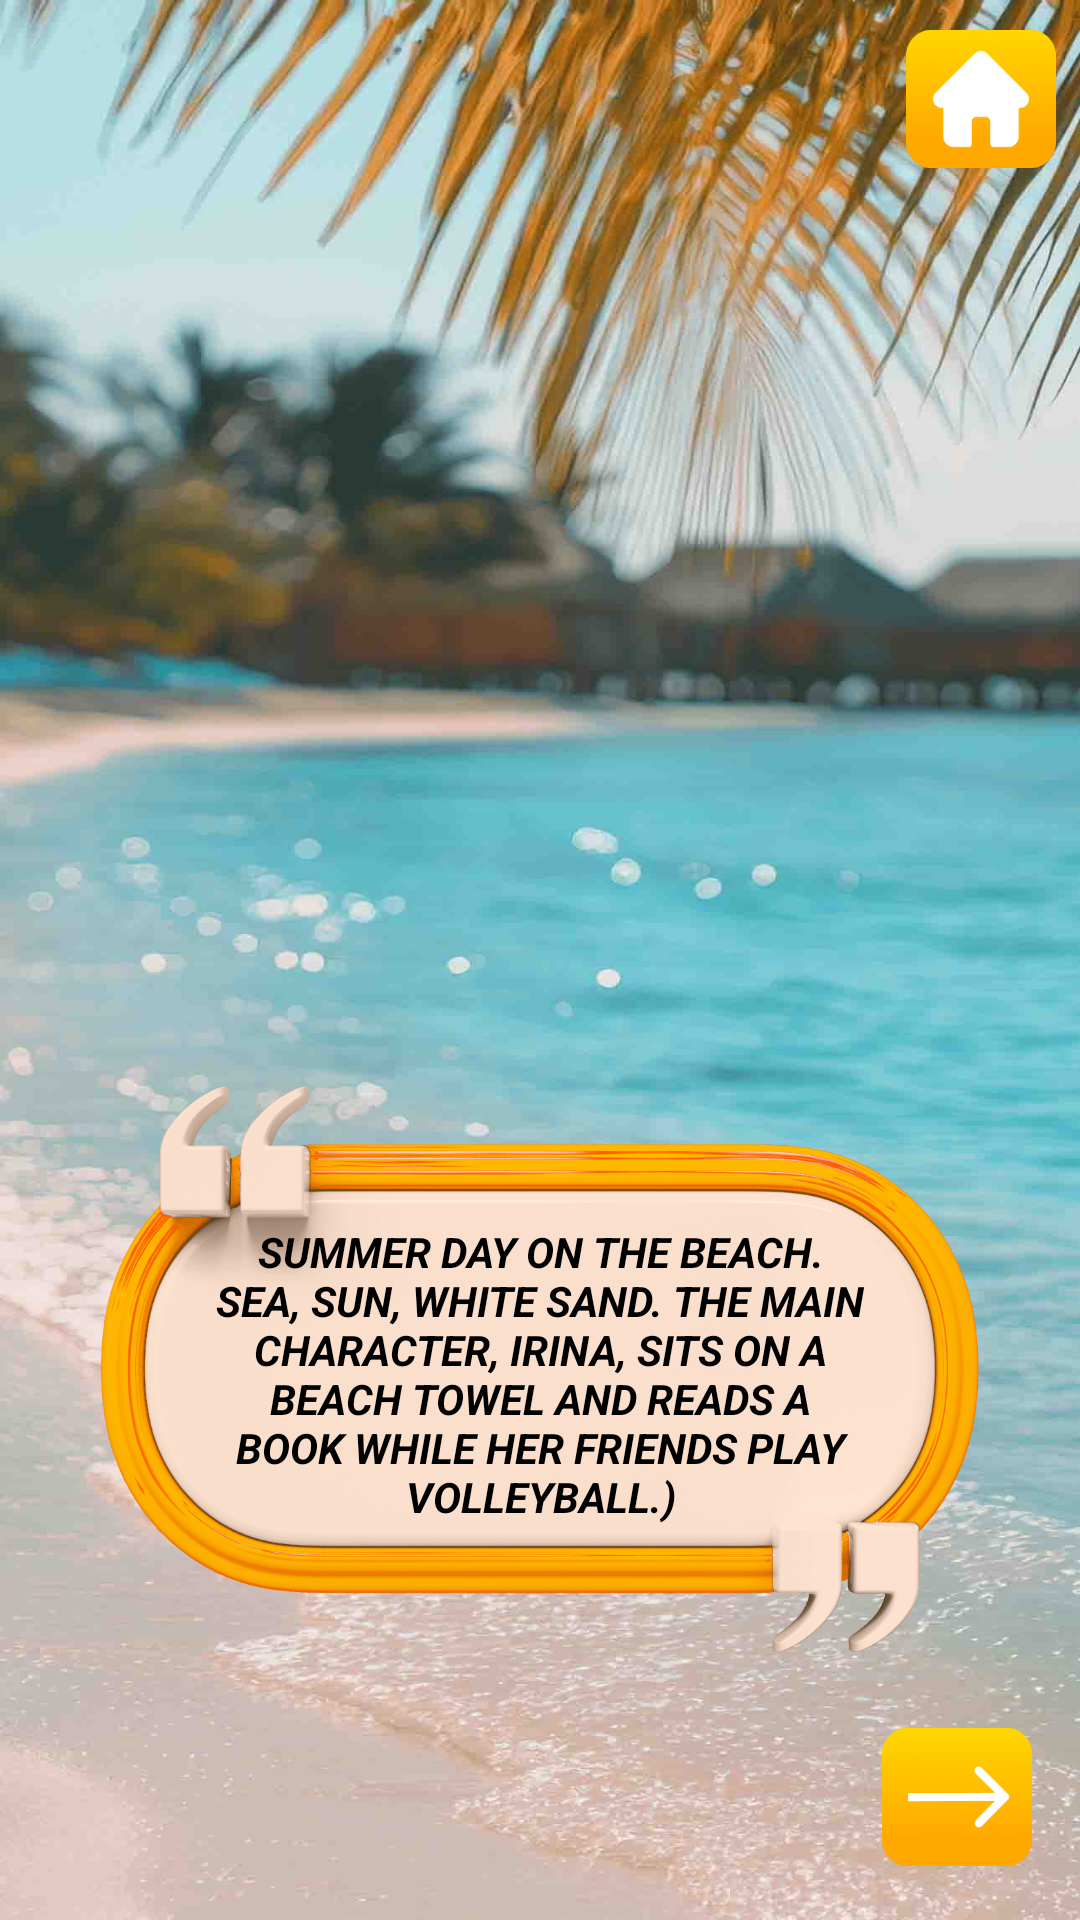

Named icons in this screenshot (1080*1920) and their centers, (x=x, y=y):
home: (x=981, y=99)
next: (x=957, y=1797)
